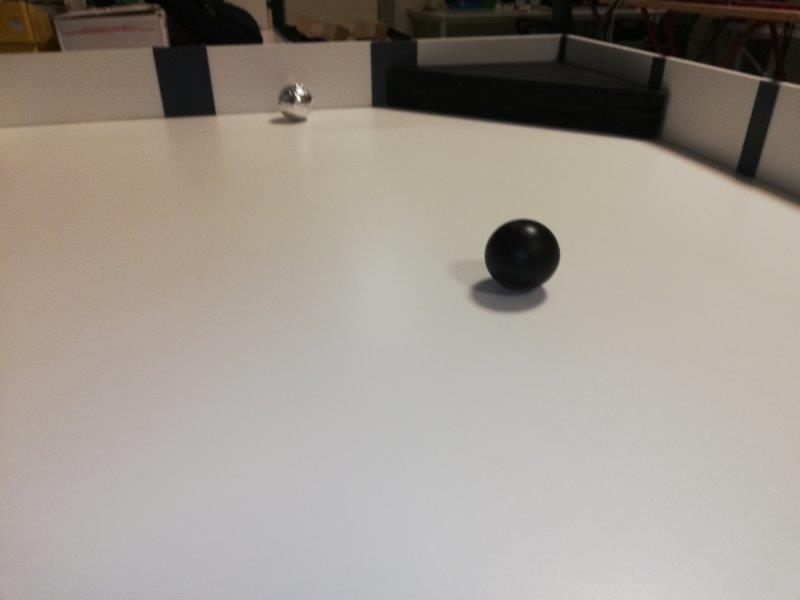bianca: (277, 82, 316, 124)
nera: (485, 218, 559, 293)
